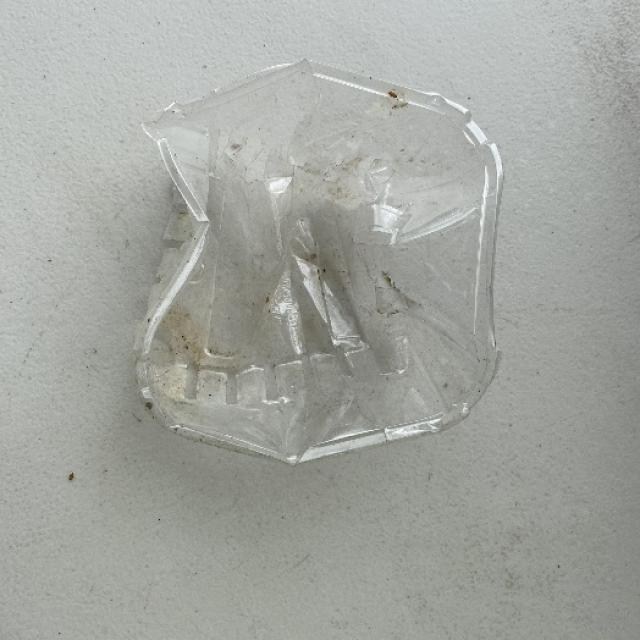plastic: (132, 58, 504, 466)
